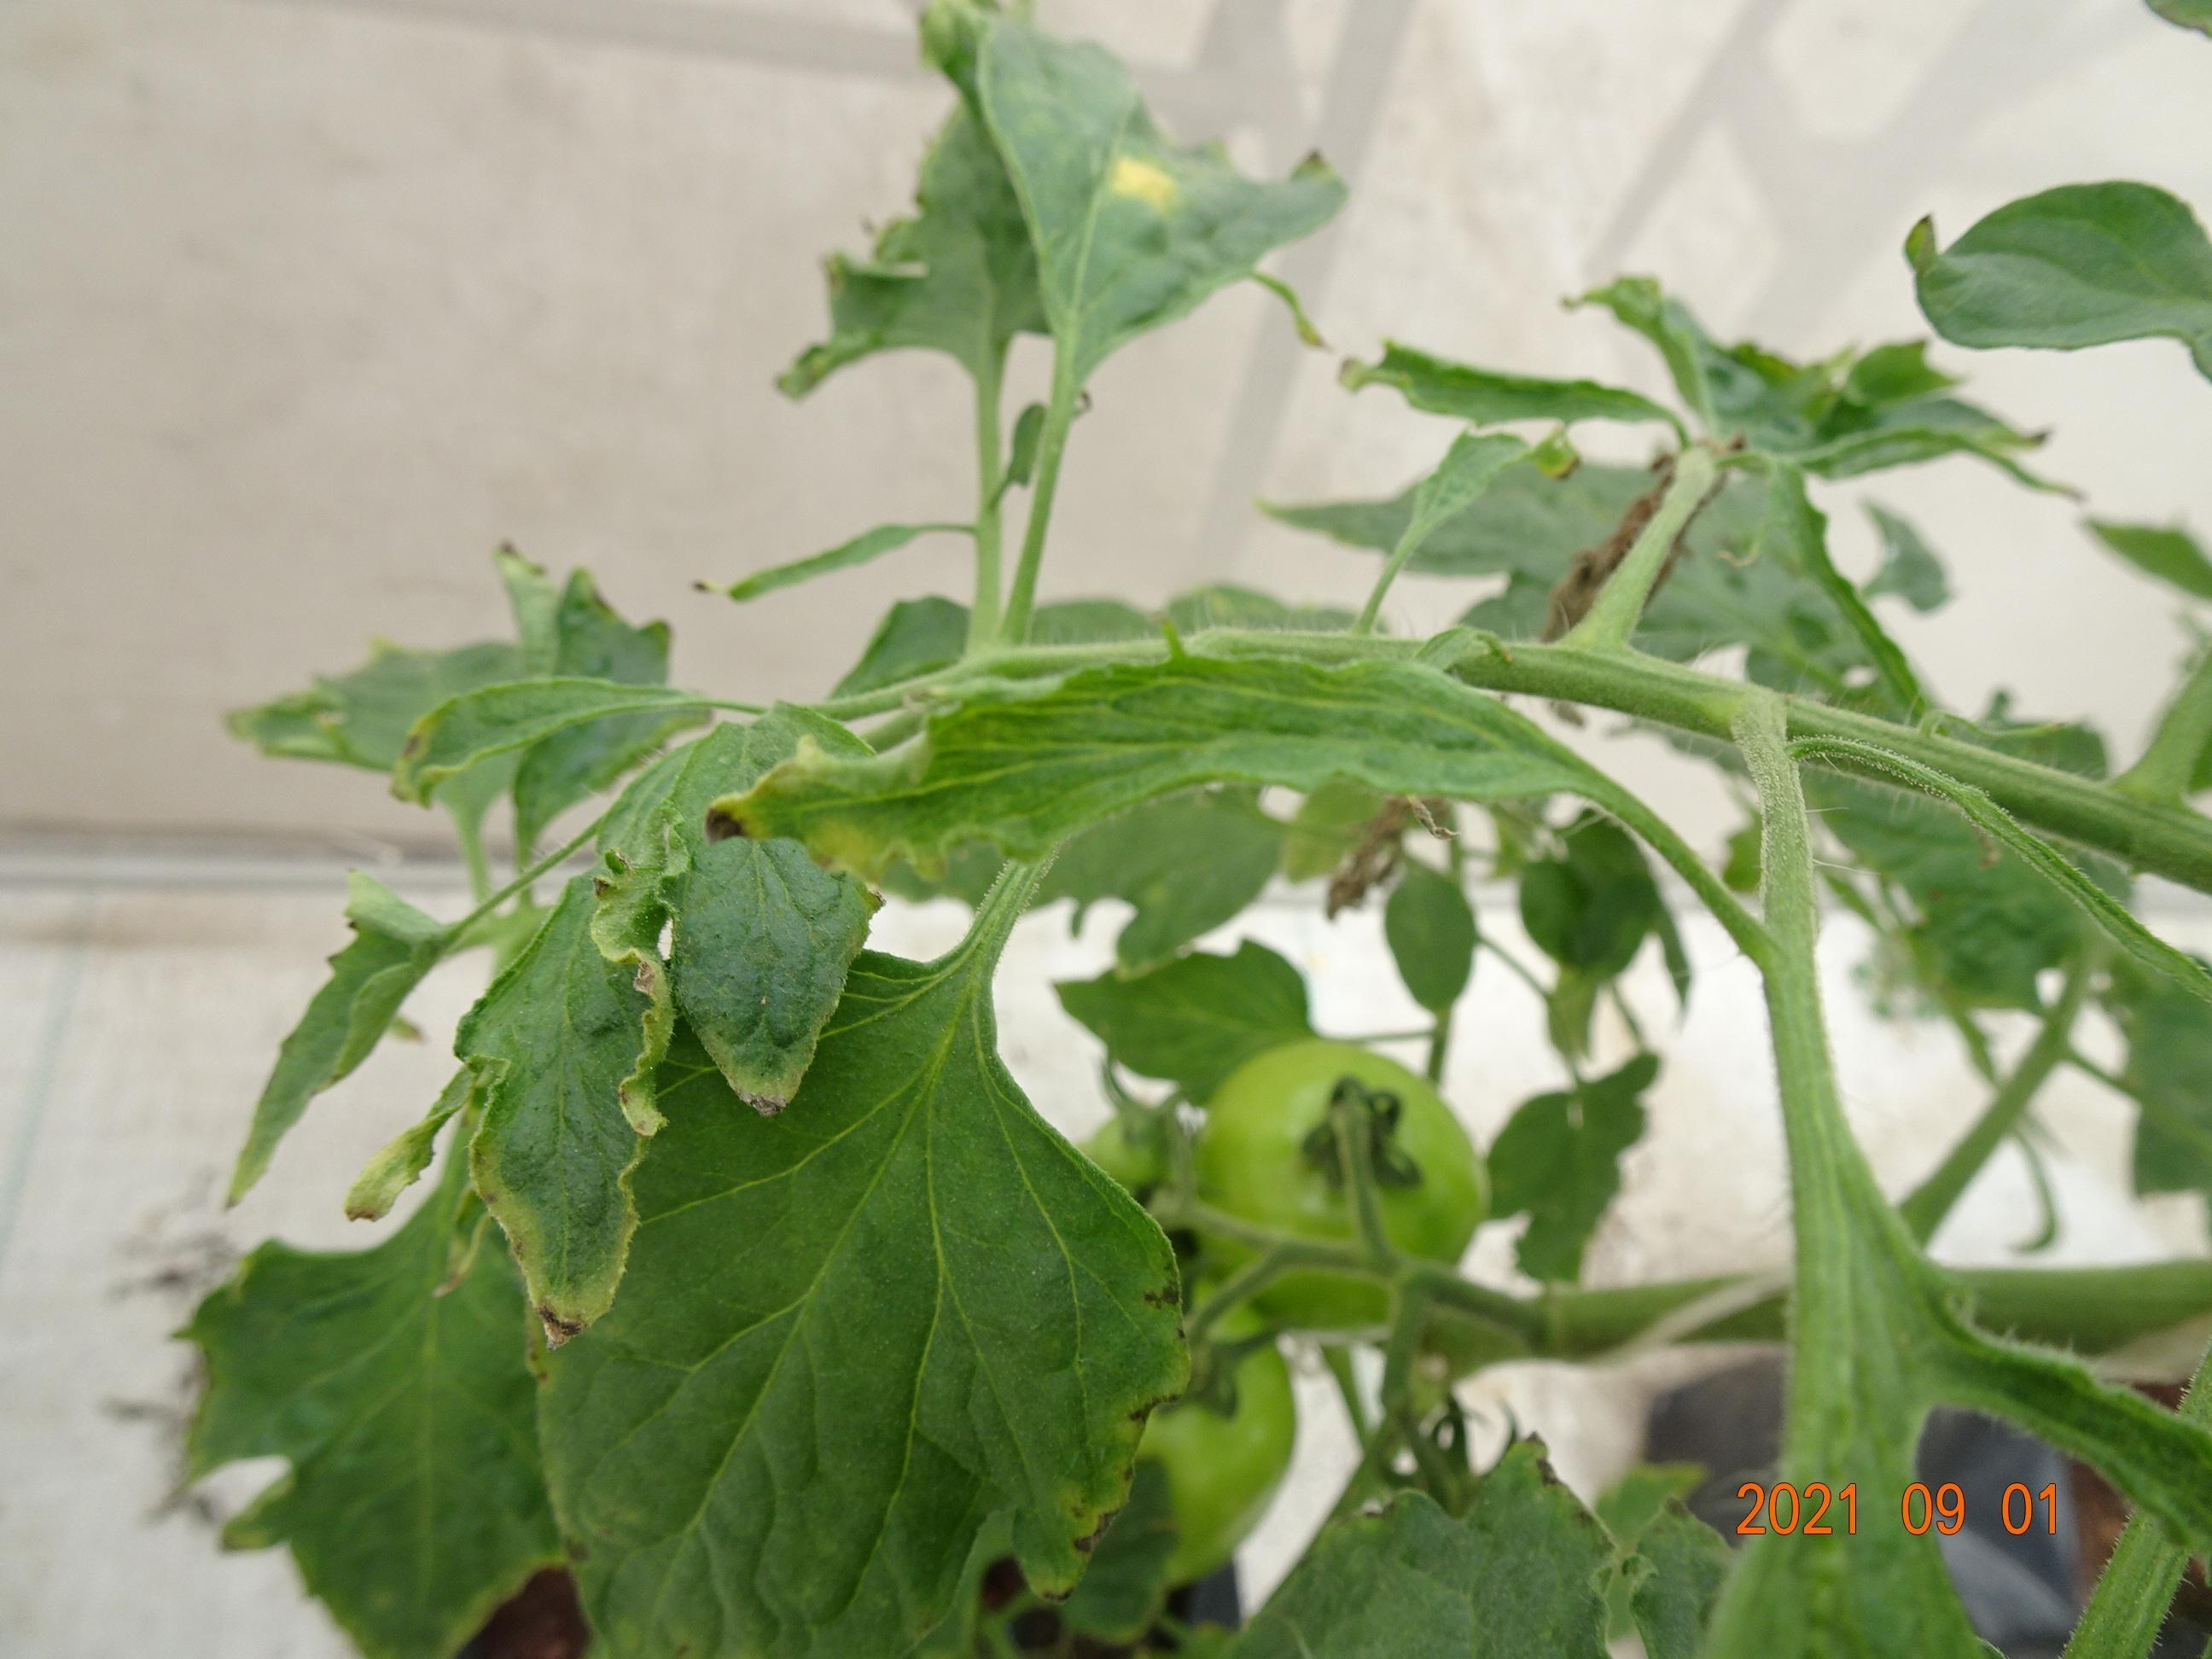Hoja rugoso: (547, 943, 1181, 1659), (453, 877, 669, 1344), (669, 838, 873, 1110)
